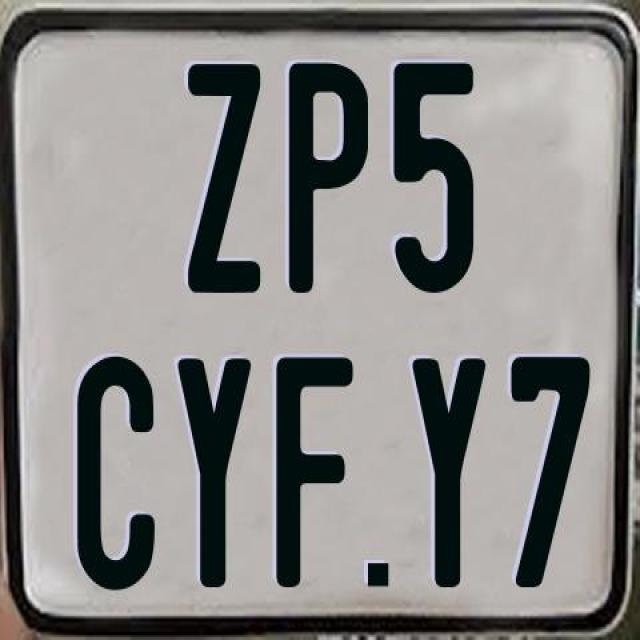5: (392, 61, 474, 300)
7: (506, 357, 586, 592)
C: (73, 356, 156, 598)
F: (273, 357, 359, 592)
P: (285, 59, 372, 290)
Y: (178, 355, 254, 586), (412, 358, 487, 590)
Z: (186, 64, 258, 293)
